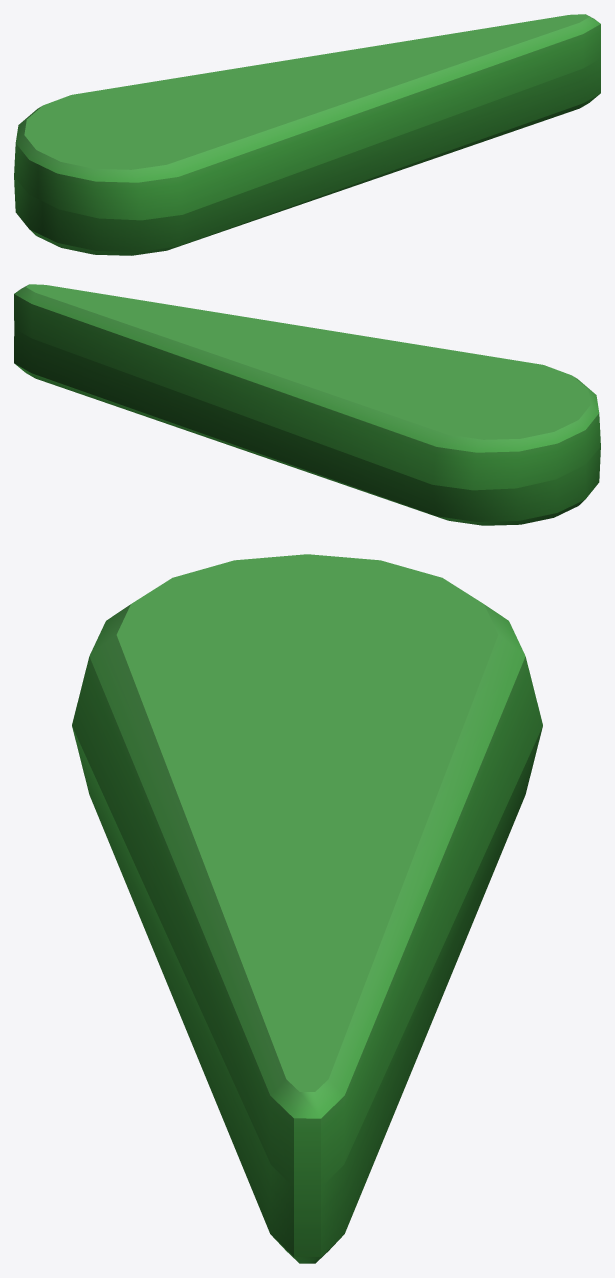
Rendered from selectionArrow.fbx.
The picture shows the model from 3 angles, top to bottom: view 1: azimuth 30°, elevation 25°; view 2: azimuth 150°, elevation 25°; view 3: azimuth 270°, elevation 25°; orthographic projection. The views are drawn at different scales.
Parts seen in each view (by area): view 1: Cylinder; view 2: Cylinder; view 3: Cylinder.
Boxes of the visible parts, x1,y1,x2,y2 form: Cylinder: (14,14,600,255); Cylinder: (14,284,600,525); Cylinder: (72,554,542,1263).
Size of the model in its own units: 5.57 by 0.8047 by 2.
